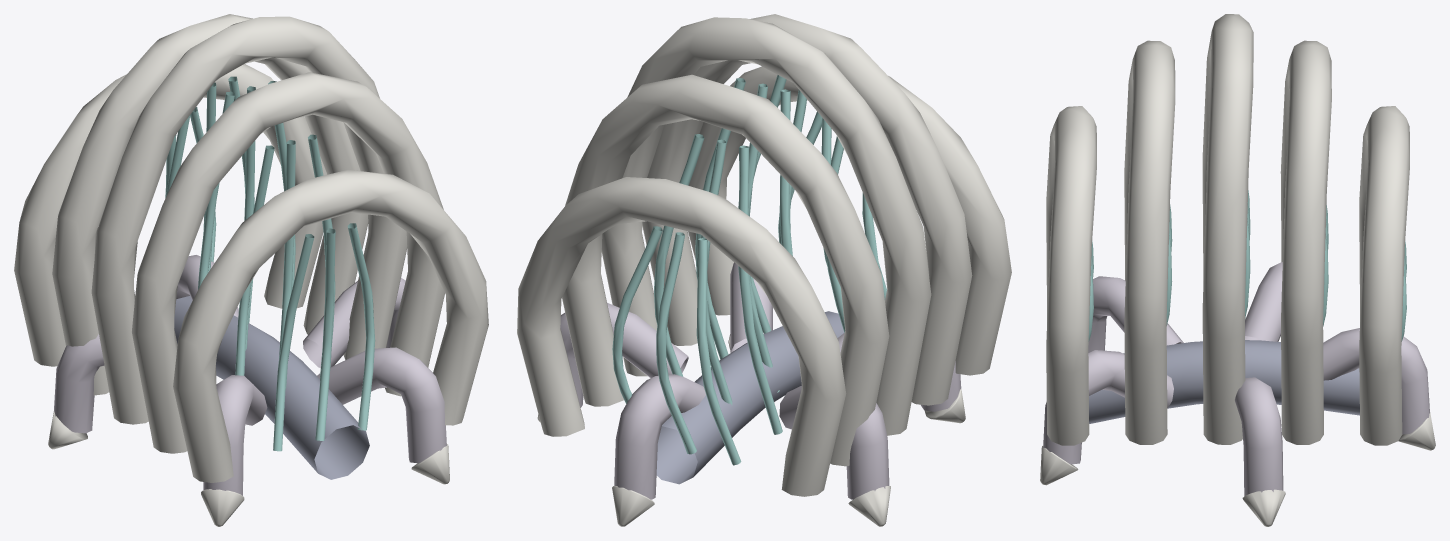
The model's file is bio_blind_harp_02_far.glb.
3 renders of one model, left to right at view 1: azimuth 30°, elevation 25°; view 2: azimuth 150°, elevation 25°; view 3: azimuth 270°, elevation 25°, orthographic. The views are drawn at different scales.
Visible parts, largest first — view 1: Open rib arch.001, Open rib arch.002, Open rib arch, Open rib arch.003, Open rib arch.004, Low axial spine, Crooked support.004, Resonance filament, Resonance filament.003, Crooked support.002, Crooked support.003, Resonance filament.006 (+7 smaller); view 2: Open rib arch.003, Open rib arch.004, Open rib arch.002, Open rib arch.001, Open rib arch, Low axial spine, Resonance filament.012, Resonance filament.009, Crooked support.001, Crooked support.002, Resonance filament.006, Crooked support (+7 smaller); view 3: Open rib arch.002, Open rib arch.001, Open rib arch.003, Open rib arch, Open rib arch.004, Low axial spine, Crooked support, Crooked support.001, Crooked support.004, Crooked support.003, Crooked support.002, Contact spur (+3 smaller).
Boxes of the visible parts, left/top/right/bottom form: Open rib arch.001: left=132, top=72, right=444, bottom=453; Open rib arch.002: left=91, top=16, right=407, bottom=424; Open rib arch: left=173, top=169, right=488, bottom=482; Open rib arch.003: left=52, top=14, right=368, bottom=395; Open rib arch.004: left=14, top=64, right=327, bottom=366; Low axial spine: left=174, top=296, right=369, bottom=479; Crooked support.004: left=317, top=347, right=446, bottom=463; Resonance filament: left=273, top=223, right=375, bottom=451; Resonance filament.003: left=235, top=134, right=335, bottom=388; Crooked support.002: left=54, top=334, right=104, bottom=433; Crooked support.003: left=203, top=375, right=267, bottom=495; Resonance filament.006: left=198, top=81, right=295, bottom=350; Open rib arch.003: left=562, top=74, right=889, bottom=466; Open rib arch.004: left=517, top=177, right=846, bottom=496; Open rib arch.002: left=601, top=17, right=931, bottom=435; Open rib arch.001: left=642, top=14, right=972, bottom=405; Open rib arch: left=688, top=66, right=1011, bottom=375; Low axial spine: left=656, top=311, right=844, bottom=484; Resonance filament.012: left=612, top=226, right=741, bottom=465; Resonance filament.009: left=654, top=134, right=782, bottom=434; Crooked support.001: left=614, top=374, right=705, bottom=499; Crooked support.002: left=779, top=385, right=889, bottom=499; Resonance filament.006: left=695, top=78, right=792, bottom=392; Crooked support: left=560, top=302, right=688, bottom=407; Open rib arch.002: left=1202, top=14, right=1253, bottom=444; Open rib arch.001: left=1124, top=40, right=1175, bottom=444; Open rib arch.003: left=1280, top=40, right=1331, bottom=444; Open rib arch: left=1046, top=106, right=1096, bottom=445; Open rib arch.004: left=1359, top=106, right=1409, bottom=445; Low axial spine: left=1089, top=340, right=1359, bottom=423; Crooked support: left=1235, top=377, right=1283, bottom=495; Crooked support.001: left=1323, top=328, right=1429, bottom=434; Crooked support.004: left=1043, top=350, right=1173, bottom=464; Crooked support.003: left=1088, top=276, right=1183, bottom=352; Crooked support.002: left=1245, top=262, right=1282, bottom=341; Contact spur: left=1242, top=489, right=1285, bottom=526.
Bounding box in the file's own units: 1.91 × 2.16 × 1.88.
